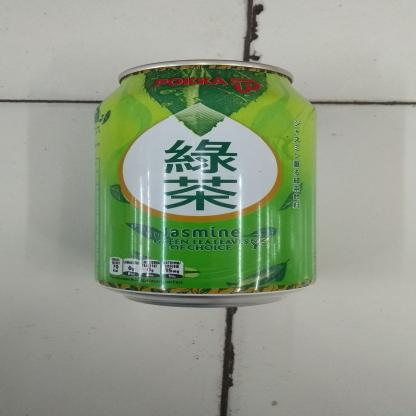can: (89, 59, 325, 312)
